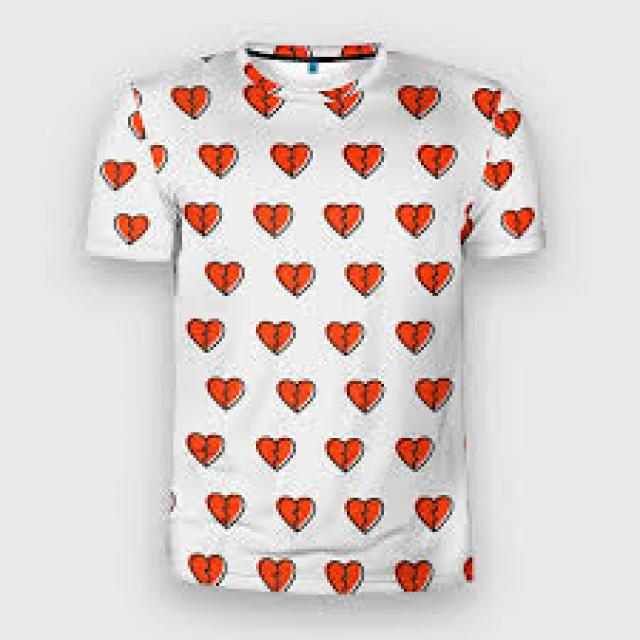Shirt: (49, 22, 576, 611)
